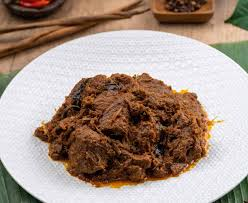Rendang: (41, 74, 217, 189)
